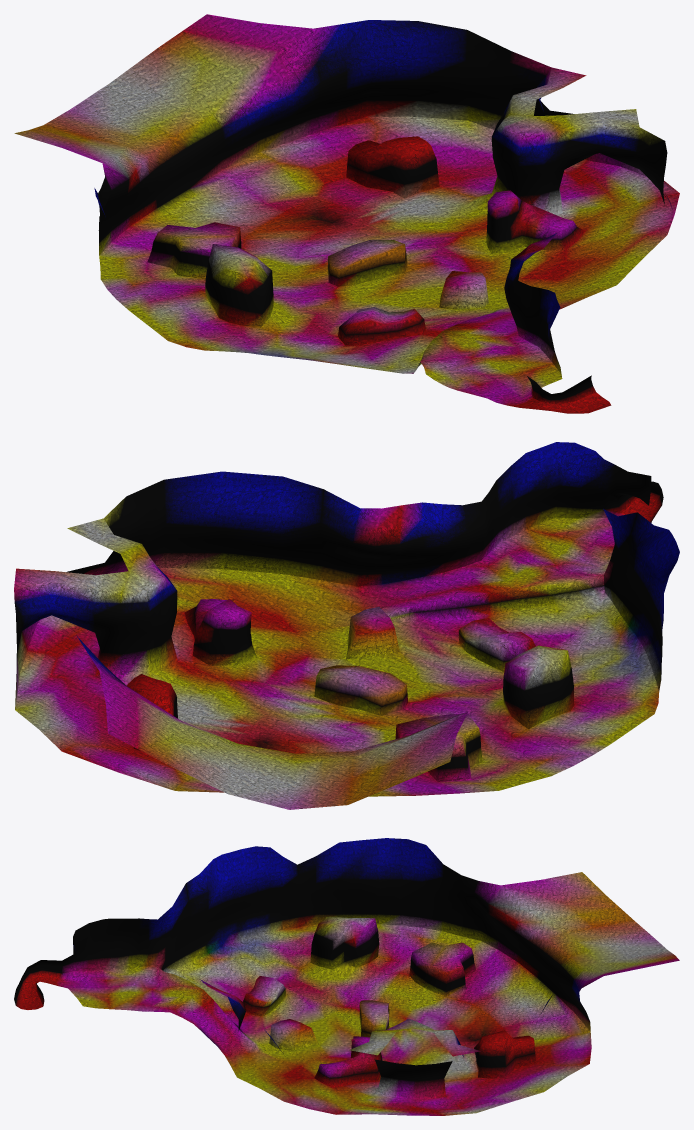
The model's file is Level4Remeshed.glb.
3 views of the same model, one above another, from view 1: azimuth 30°, elevation 25°; view 2: azimuth 150°, elevation 25°; view 3: azimuth 270°, elevation 25° (orthographic). The views are drawn at different scales.
Visible parts, largest first — view 1: Level4Remeshed; view 2: Level4Remeshed; view 3: Level4Remeshed.
Boxes of the visible parts, bbox=[...] form: Level4Remeshed: bbox=[14, 14, 679, 413]; Level4Remeshed: bbox=[14, 442, 679, 809]; Level4Remeshed: bbox=[14, 838, 679, 1115].
Size of the model in its own units: 87.72 by 20.59 by 121.
Materials: 1 (1 with a texture image).
